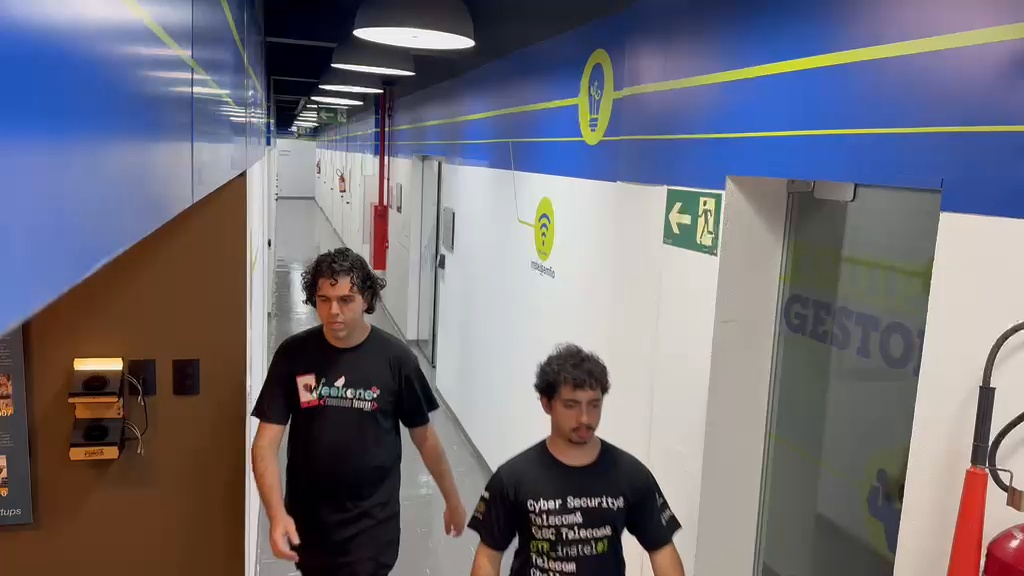person: (249, 246, 469, 574), (466, 341, 686, 575)
